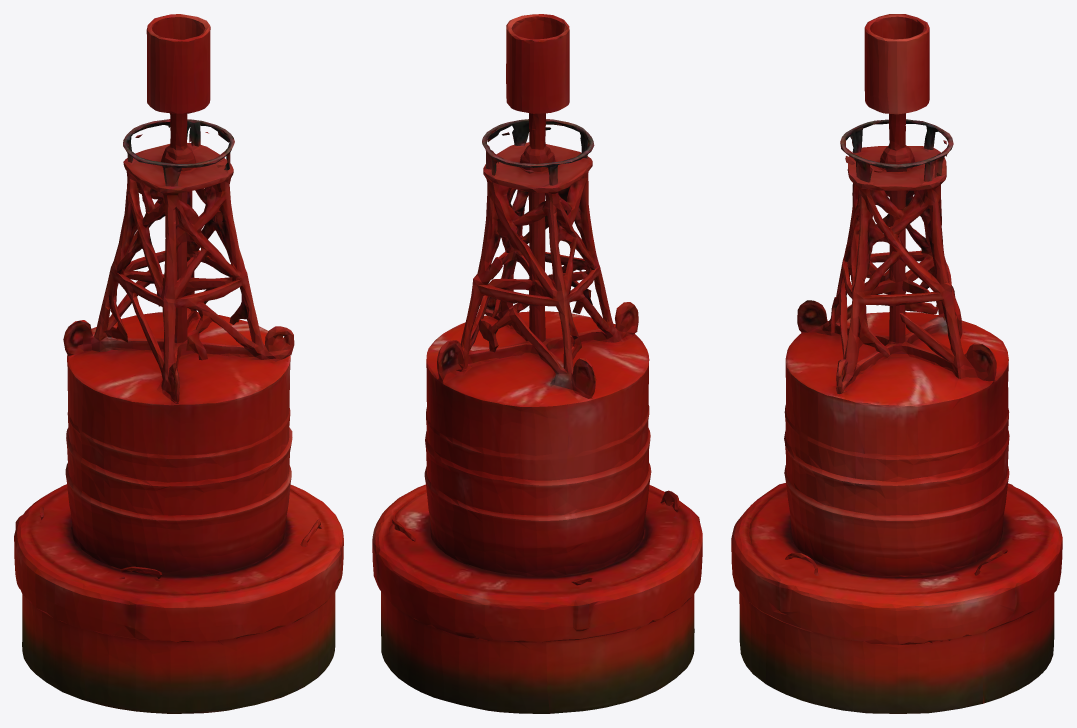
The model's file is buoy-red.glb.
3 renders of one model, left to right at view 1: azimuth 30°, elevation 25°; view 2: azimuth 150°, elevation 25°; view 3: azimuth 270°, elevation 25°, orthographic.
Visible parts, largest first — view 1: geometry_0; view 2: geometry_0; view 3: geometry_0.
Part boxes in pixels (box(x1,y1,x2,y2)): geometry_0: box(14, 14, 343, 713); geometry_0: box(372, 14, 702, 713); geometry_0: box(731, 14, 1062, 713).
Bounding box in the file's own units: 0.4843 × 1 × 0.484.
1 material, 1 textured.
